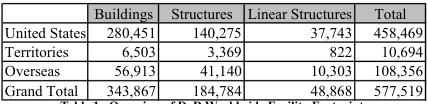table: (3, 4, 422, 97)
table column: (243, 4, 362, 97), (3, 4, 89, 97), (162, 4, 243, 97), (89, 4, 162, 97), (362, 4, 422, 97)
table column header: (3, 4, 422, 22)
table row: (3, 22, 422, 41), (3, 41, 422, 60), (3, 60, 422, 79), (3, 4, 422, 22), (3, 79, 422, 97)
